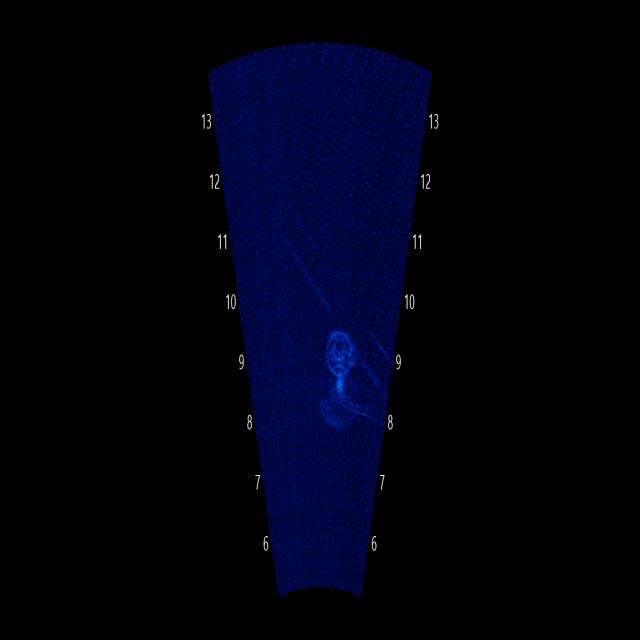circle: (308, 305, 366, 386)
